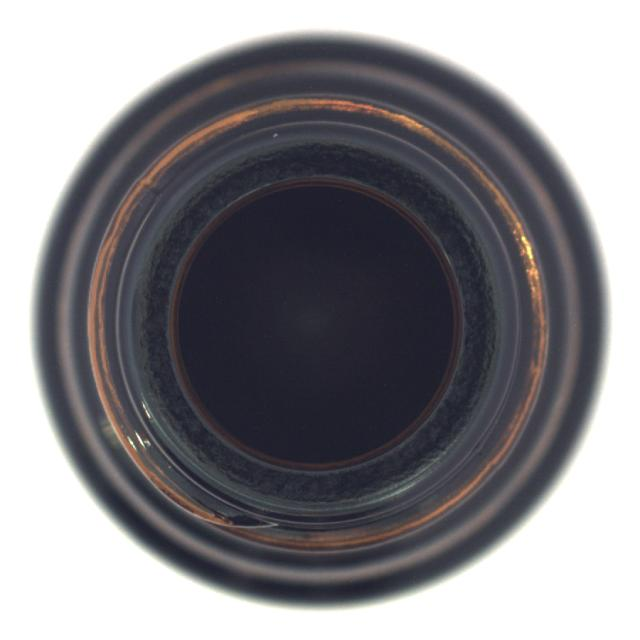bottle-good: (31, 32, 597, 606)
